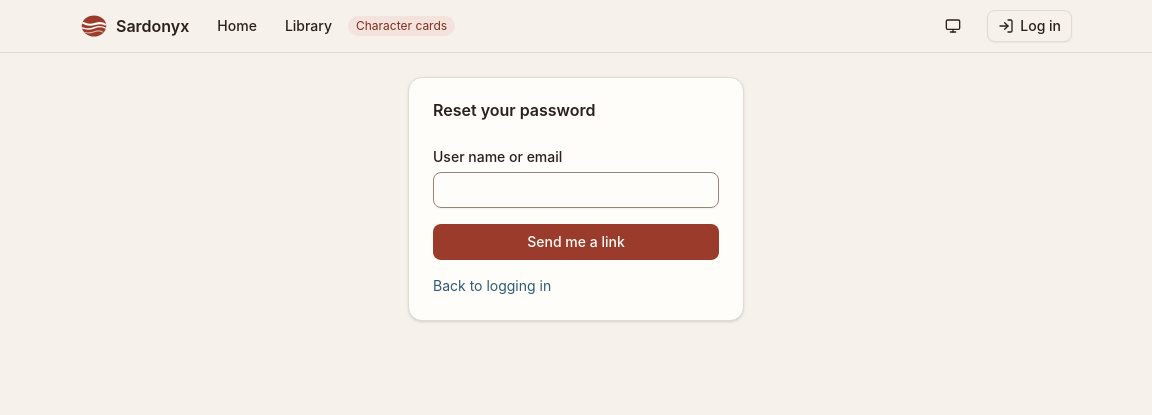
Test: starting a password reset › says plainly when the site cannot send mail after all
Type "ada" into the field labelled "User name or email".
click(576, 190); type("ada")  # box [433, 172, 719, 208]
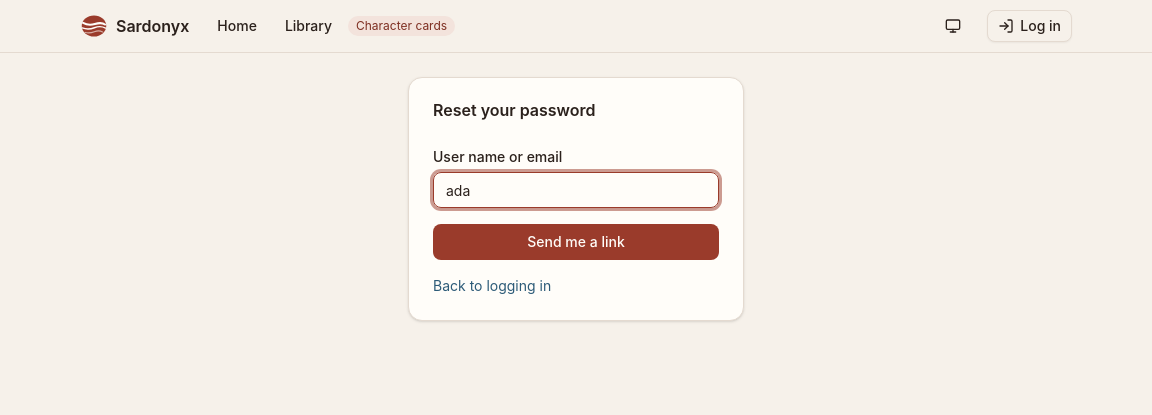
Click the button "Send me a link".
click(576, 242)  # box [433, 224, 719, 260]
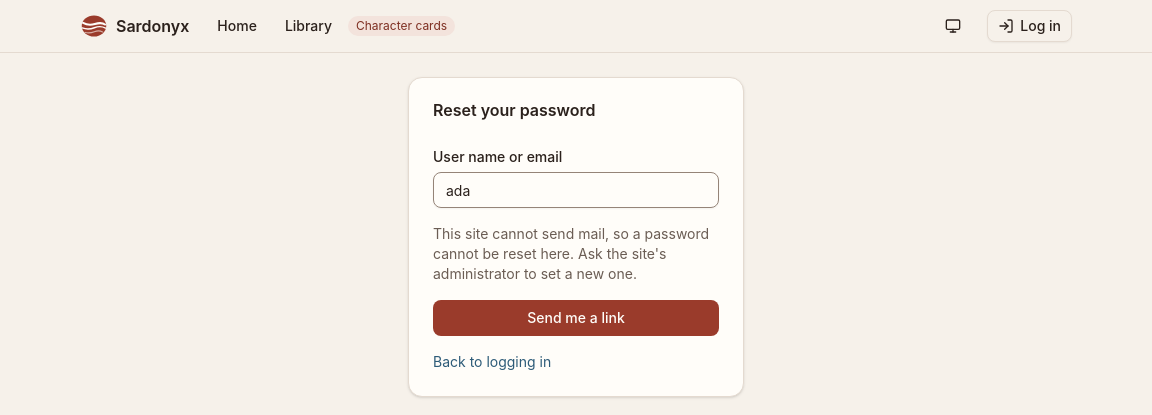
Expected: the text "This site cannot send mail" is shown, [433, 225, 709, 282]
